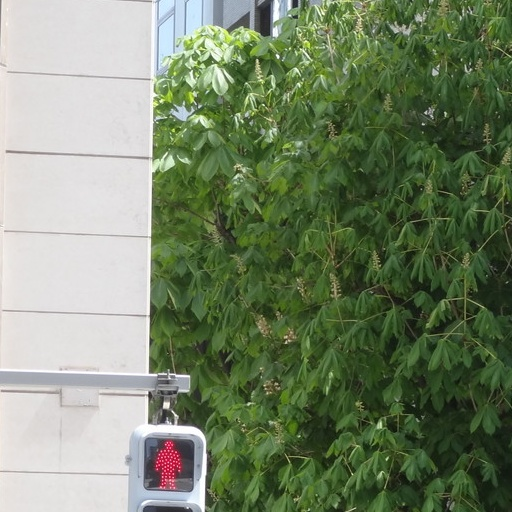Pedestrian_Signal_Red: (123, 414, 203, 503)
